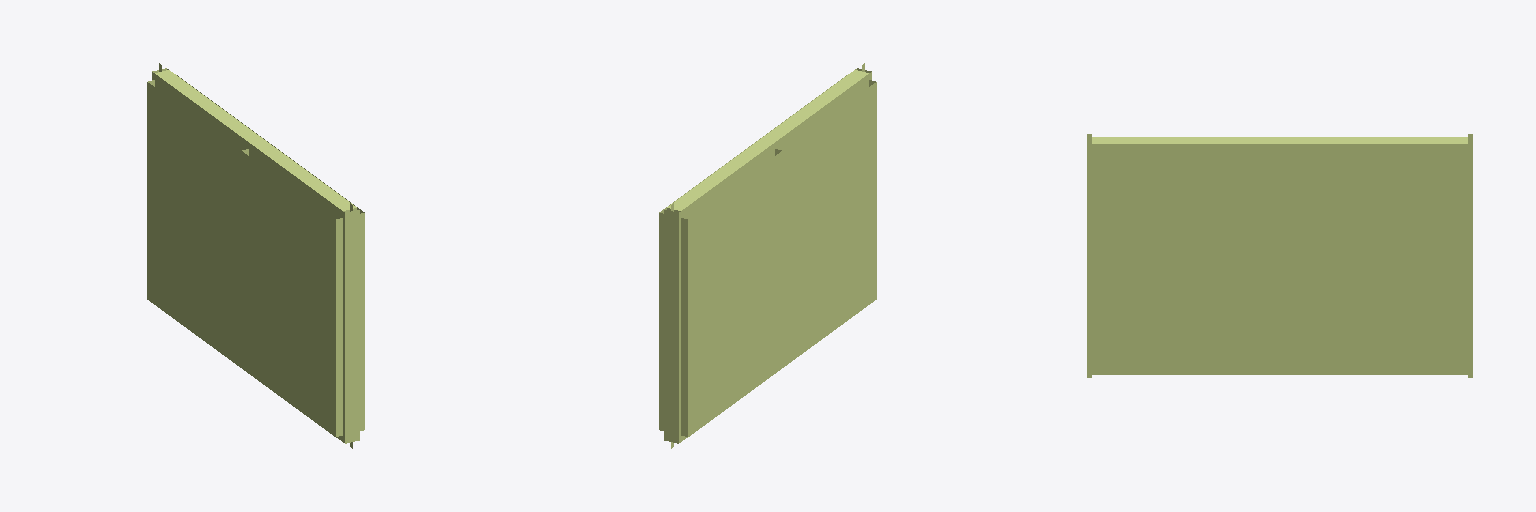
File: Completa.obj
The picture shows the model from 3 angles: view 1: azimuth 30°, elevation 25°; view 2: azimuth 150°, elevation 25°; view 3: azimuth 270°, elevation 25°; orthographic projection.
Parts seen in each view (by area): view 1: AwningWindow003; view 2: AwningWindow003; view 3: AwningWindow003.
Boxes of the visible parts, x1=… form: AwningWindow003: x1=147, y1=63, x2=364, y2=448; AwningWindow003: x1=659, y1=63, x2=876, y2=448; AwningWindow003: x1=1087, y1=134, x2=1472, y2=377.
Size of the model in its own units: 1.86 by 14.96 by 21.46.